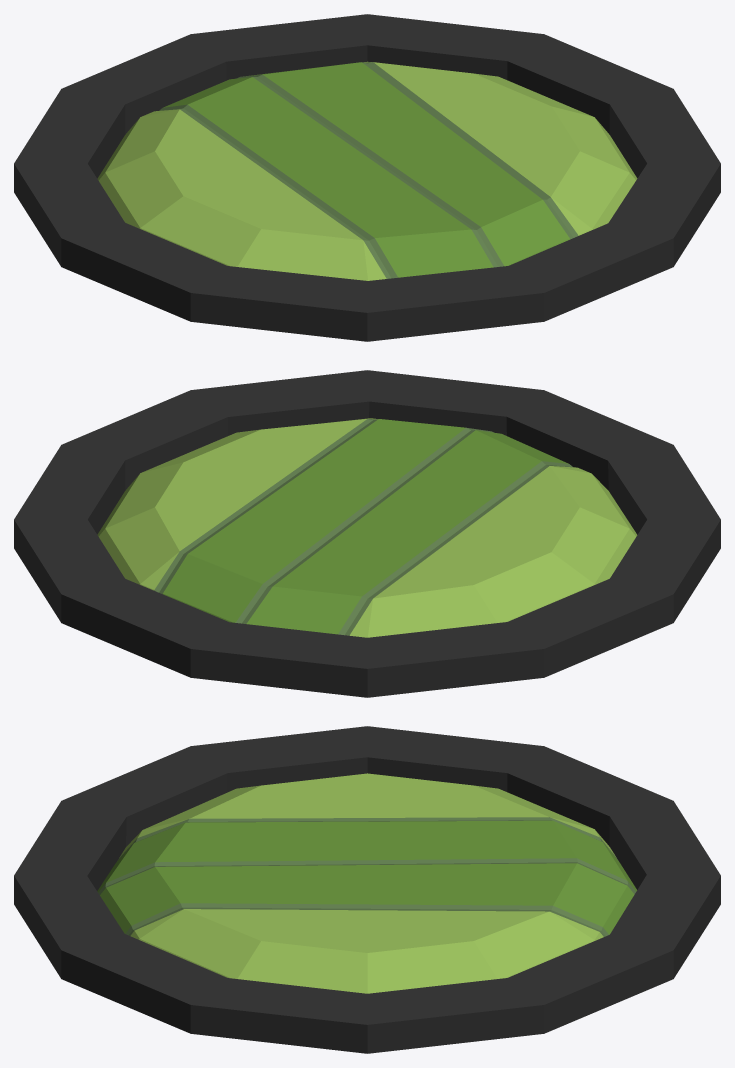
File: F_Shield_C_Green.fbx
The picture shows the model from 3 angles, top to bottom: view 1: azimuth 30°, elevation 25°; view 2: azimuth 150°, elevation 25°; view 3: azimuth 270°, elevation 25°; orthographic projection.
Visible parts, largest first — view 1: F_Shield_C_Green; view 2: F_Shield_C_Green; view 3: F_Shield_C_Green.
Part boxes in pixels (x1,y1,x2,y2): F_Shield_C_Green: (14,14,720,341); F_Shield_C_Green: (14,370,720,697); F_Shield_C_Green: (14,726,720,1053).
Bounding box in the file's own units: 75.7 × 7.63 × 75.7.
